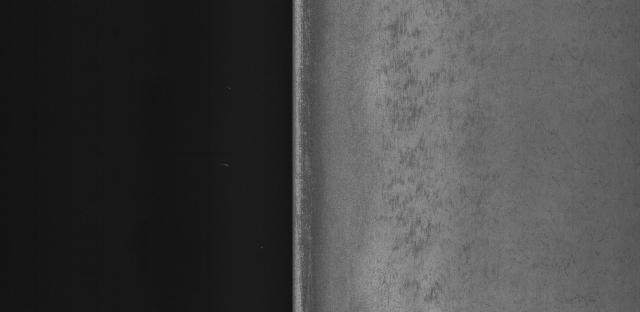silk_spot: (362, 14, 479, 312)
